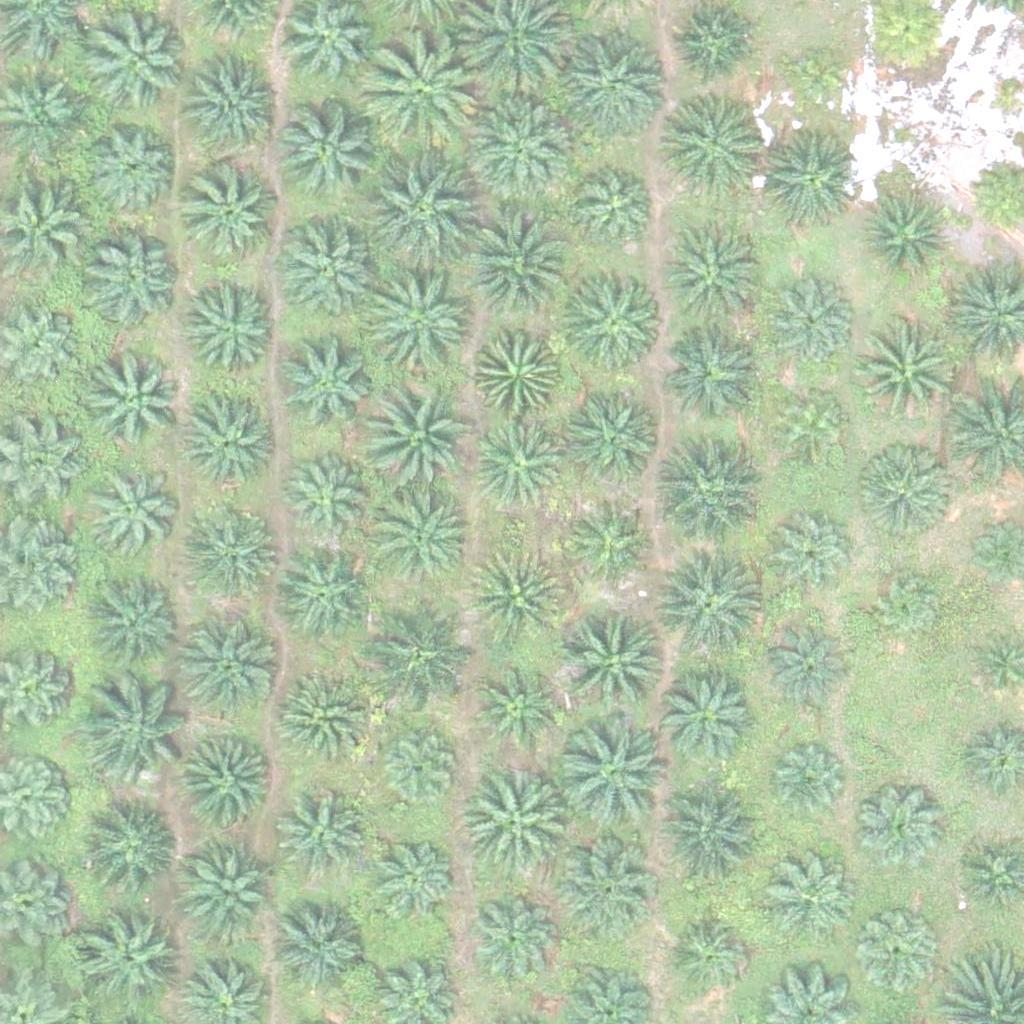Kelapa_Sawit: (647, 785, 760, 898), (556, 722, 669, 835), (82, 678, 195, 791), (367, 594, 480, 707), (367, 269, 480, 382), (366, 153, 479, 266), (467, 90, 579, 204), (562, 607, 674, 721), (456, 766, 568, 879), (366, 483, 478, 596), (361, 373, 473, 486), (364, 36, 476, 149), (459, 205, 571, 318), (557, 25, 669, 138), (648, 436, 760, 549), (649, 550, 761, 663), (656, 672, 756, 773), (553, 839, 653, 940), (270, 668, 370, 769), (272, 897, 372, 998), (82, 801, 182, 902), (78, 913, 178, 1014), (89, 349, 189, 450), (82, 464, 182, 565), (86, 573, 186, 674), (180, 616, 280, 717), (179, 392, 279, 493), (181, 163, 281, 264), (277, 100, 377, 201), (272, 336, 372, 437), (275, 548, 375, 649), (465, 547, 565, 648), (564, 391, 664, 492), (563, 267, 663, 368), (665, 231, 765, 332), (663, 322, 763, 423), (756, 129, 856, 230), (855, 322, 955, 423), (177, 735, 277, 835), (178, 840, 278, 940), (88, 14, 188, 114), (79, 231, 179, 331), (187, 503, 287, 603), (182, 279, 282, 379), (189, 50, 289, 150), (276, 218, 376, 318), (662, 93, 762, 193), (856, 441, 956, 541), (378, 725, 466, 813), (367, 832, 455, 920), (665, 911, 753, 999), (854, 912, 942, 1000), (280, 793, 368, 881), (476, 417, 564, 505), (472, 668, 560, 756), (570, 492, 658, 580), (763, 625, 851, 713), (770, 507, 858, 595), (468, 893, 555, 981), (856, 783, 943, 871), (767, 856, 854, 944), (88, 125, 175, 213), (282, 450, 369, 538), (474, 325, 561, 413), (575, 167, 662, 255), (768, 274, 855, 362), (862, 194, 949, 282), (771, 746, 846, 822), (778, 40, 853, 116), (775, 388, 850, 463), (873, 572, 948, 647)
